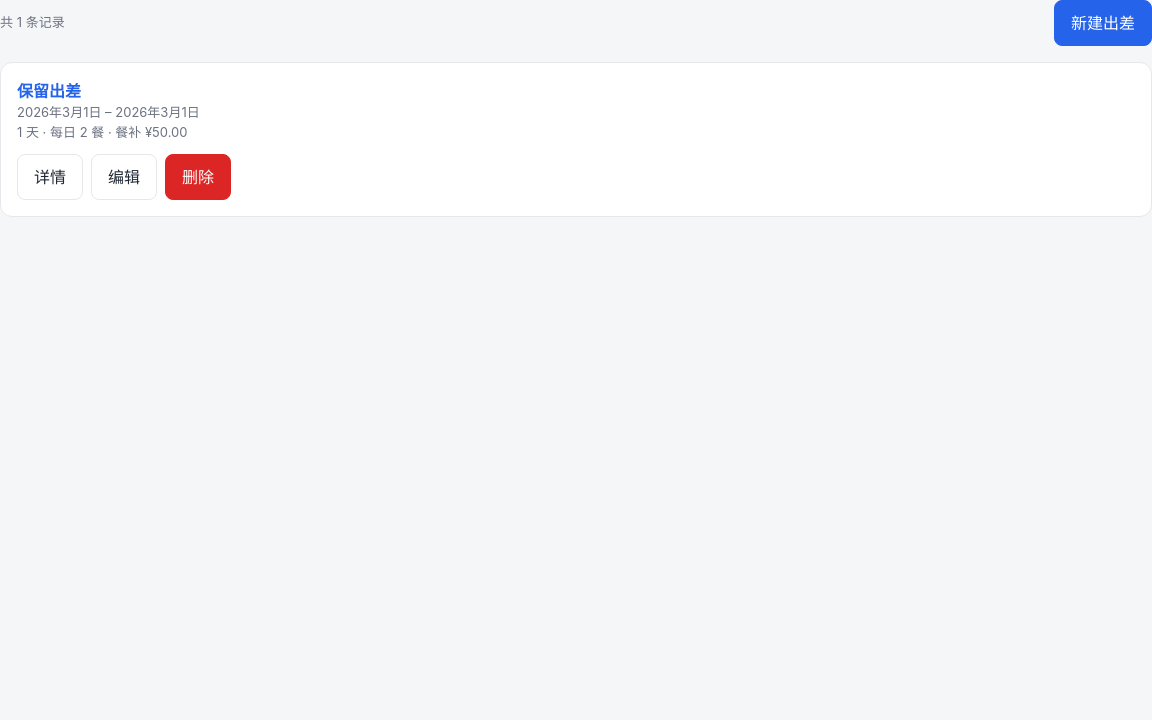
Scenario: 出差列表页 UI › 取消删除时记录保留
Expected: the link "保留出差" is shown, [17,79,81,103]
What coordinates should you click on to do the following:
click the button "删除"
I would click on:
 (198, 177)
Its box is [165,154,231,200].
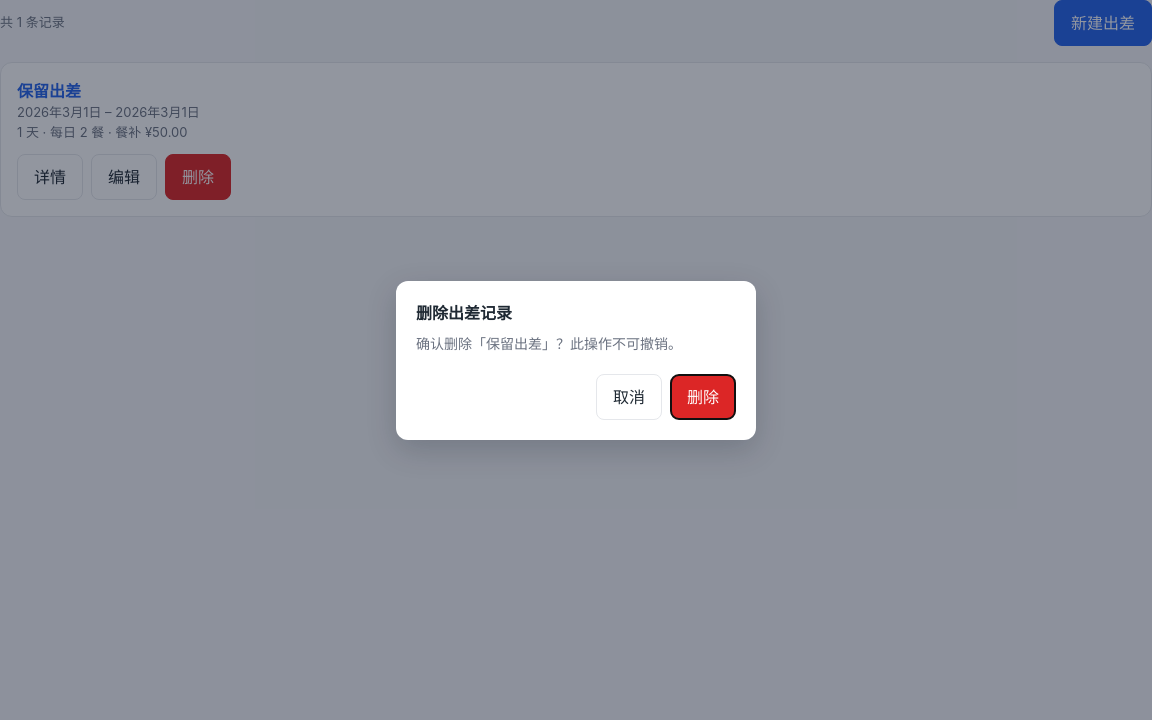
What coordinates should you click on to do the following:
click the button "取消"
I would click on:
 (629, 396)
Its box is [596,374,662,420].
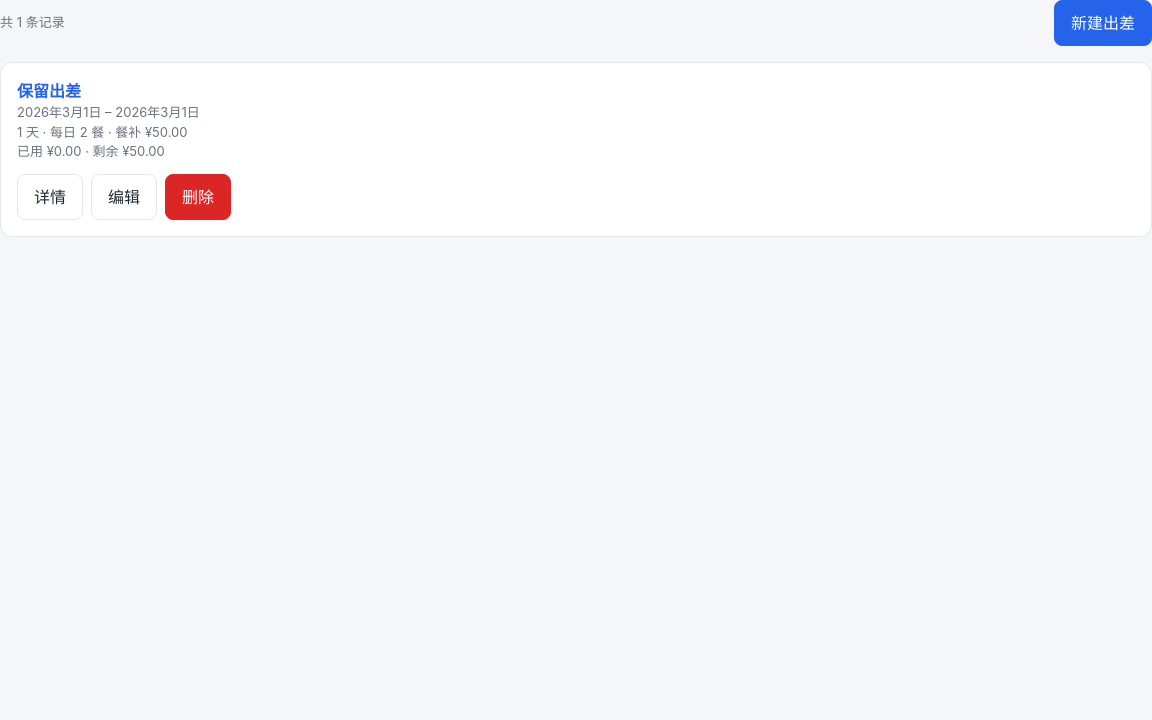
Expected: the link "保留出差" is shown, [17,79,81,103]
Expected: the dialog is gone
